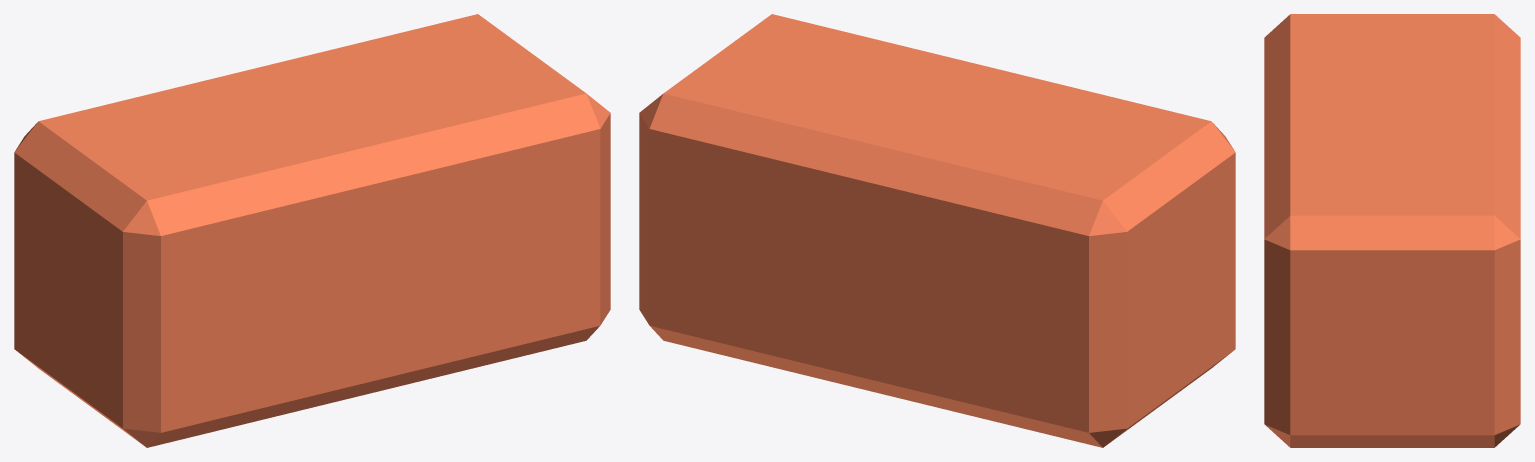
3 renders of one model, left to right at view 1: azimuth 30°, elevation 25°; view 2: azimuth 150°, elevation 25°; view 3: azimuth 270°, elevation 25°, orthographic. The views are drawn at different scales.
Visible parts, largest first — view 1: Mt 2; view 2: Mt 2; view 3: Mt 2.
Boxes of the visible parts, box(x1,y1,x2,y2) form: Mt 2: box(14, 14, 610, 447); Mt 2: box(639, 14, 1235, 447); Mt 2: box(1264, 14, 1520, 447).
Bounding box in the file's own units: 101 × 48.92 × 48.92.
